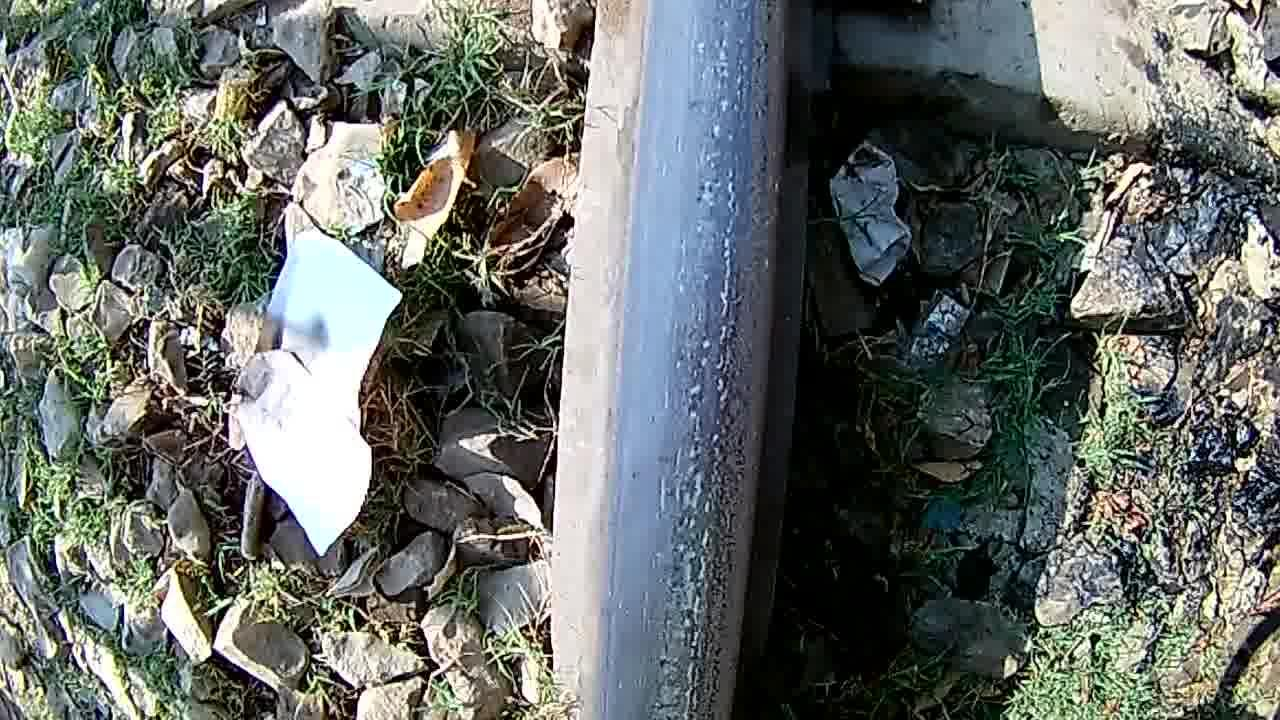clip_missing: (634, 6, 762, 716)
